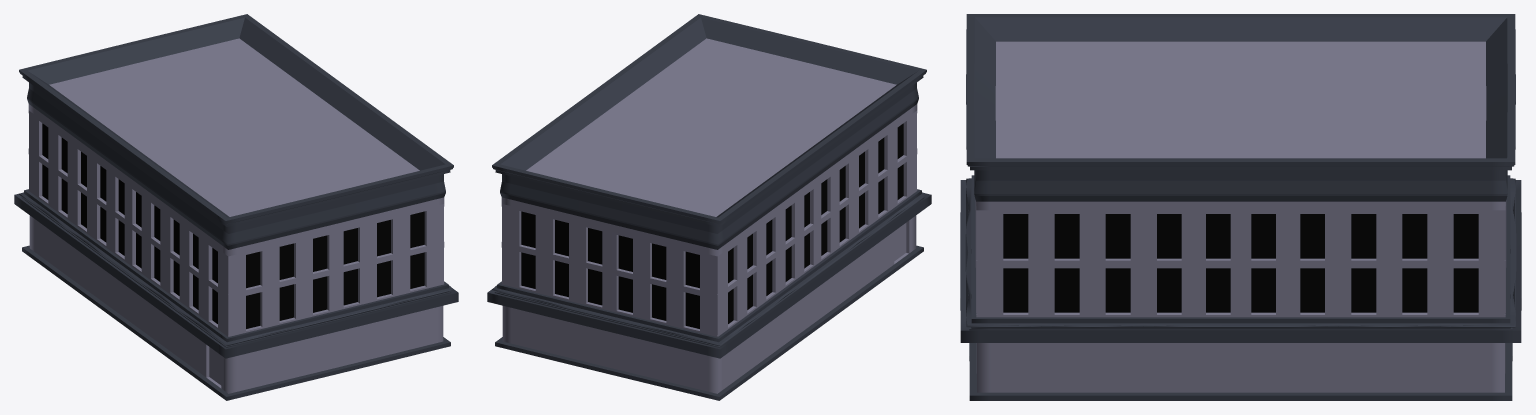
Rendered from Building2 Black.fbx.
The picture shows the model from 3 angles, left to right: view 1: azimuth 30°, elevation 25°; view 2: azimuth 150°, elevation 25°; view 3: azimuth 270°, elevation 25°; orthographic projection. The views are drawn at different scales.
Visible parts, largest first — view 1: Object001; view 2: Object001; view 3: Object001.
Boxes of the visible parts, bbox=[...] form: Object001: bbox=[14, 14, 458, 400]; Object001: bbox=[487, 14, 931, 400]; Object001: bbox=[960, 14, 1521, 400].
Bounding box in the file's own units: 4189 × 3115 × 6596.
